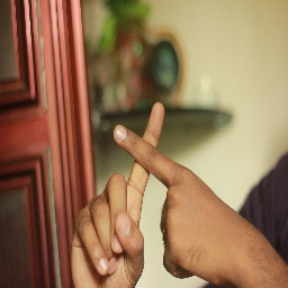X: (80, 92, 219, 235)
